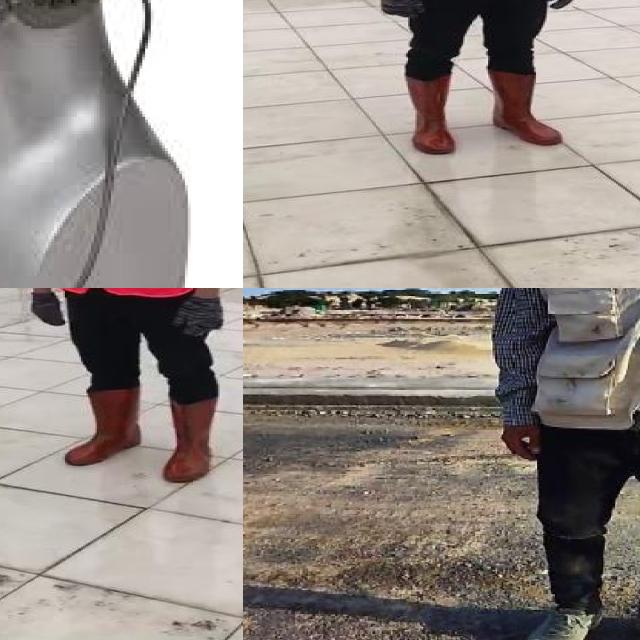boots: (62, 390, 140, 466), (486, 68, 561, 145), (401, 70, 461, 153), (163, 396, 218, 486)
hand_glove: (174, 297, 228, 342), (31, 292, 69, 326), (374, 0, 424, 19), (546, 0, 589, 12)
person: (489, 288, 640, 640), (16, 288, 243, 491), (353, 0, 586, 157)
shoes: (516, 599, 610, 640)
vest: (518, 288, 640, 439)
